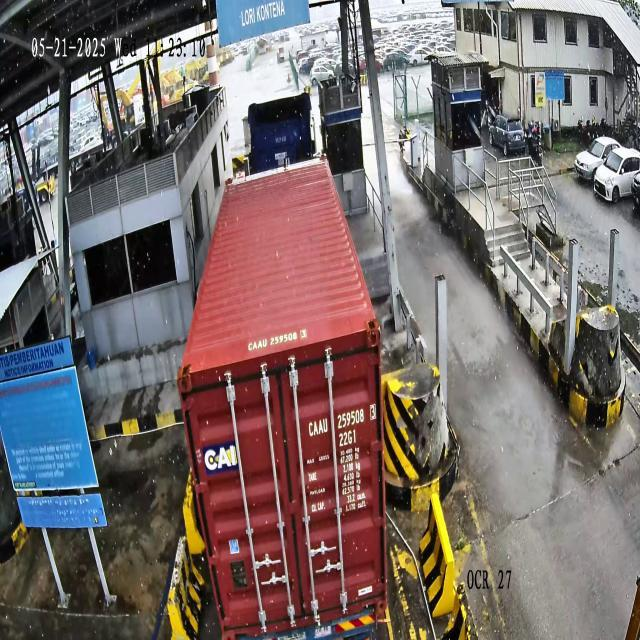ISO: (339, 429, 357, 447)
container_number: (308, 401, 377, 438)
